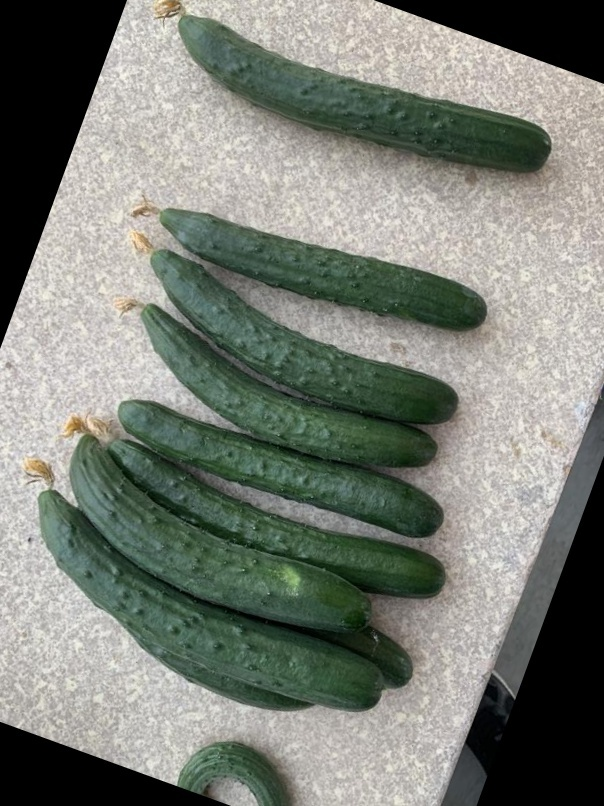mature: (35, 496, 385, 718), (179, 11, 550, 172), (107, 433, 446, 595), (146, 248, 459, 423), (76, 449, 370, 630), (134, 301, 440, 466), (112, 394, 444, 534), (160, 195, 488, 329)
